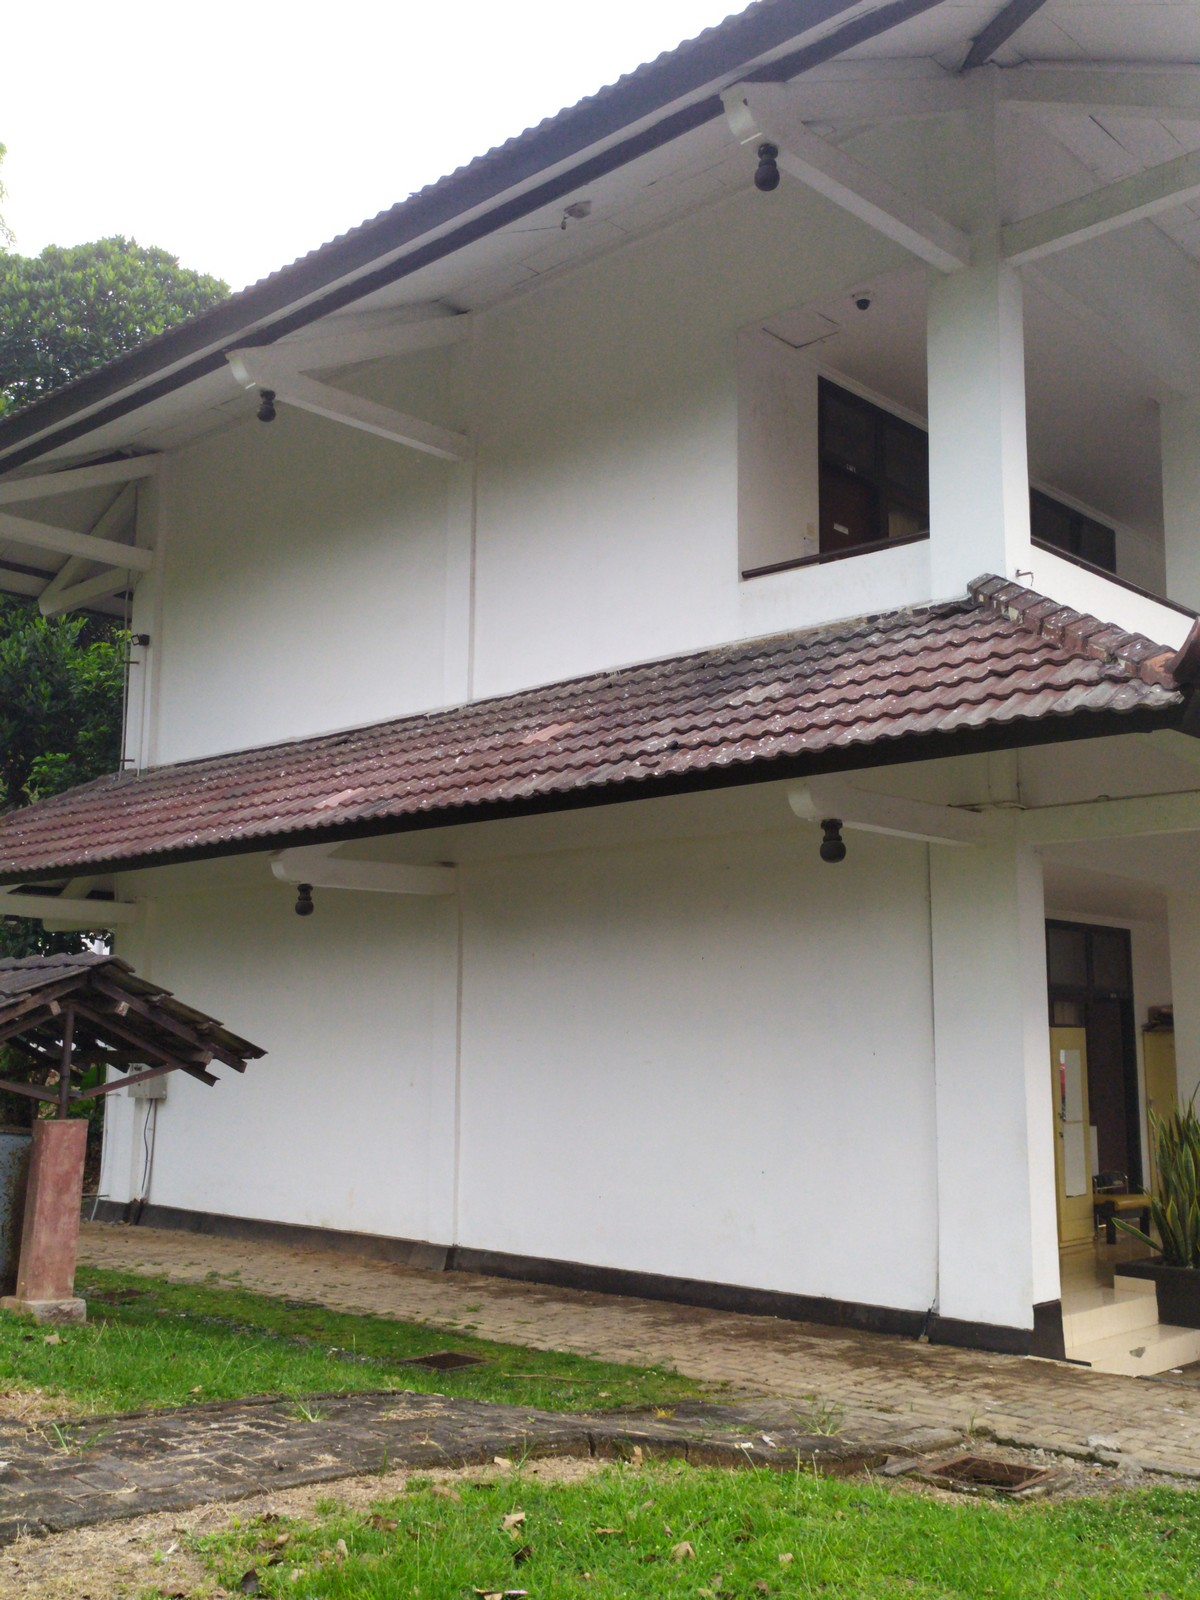concrete beam: (805, 152, 976, 281), (1005, 173, 1175, 275), (304, 380, 470, 465), (16, 510, 158, 580)
concrete column: (918, 826, 1070, 1358), (916, 194, 1044, 593), (425, 344, 487, 712), (117, 479, 170, 767)
